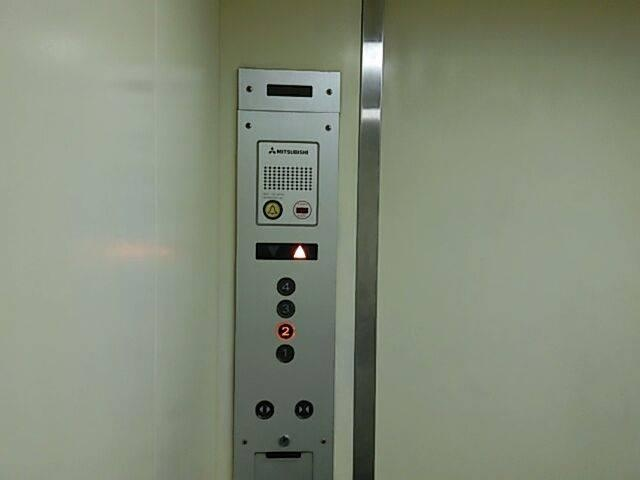1: (274, 343, 295, 363)
2: (276, 322, 296, 341)
3: (275, 298, 297, 319)
4: (275, 275, 295, 296)
alarm: (262, 198, 284, 221)
close: (293, 399, 314, 420)
keyhole: (278, 434, 291, 447)
led: (255, 242, 319, 261), (266, 83, 312, 96)
open: (254, 399, 276, 421)
unknown: (293, 198, 311, 219)
